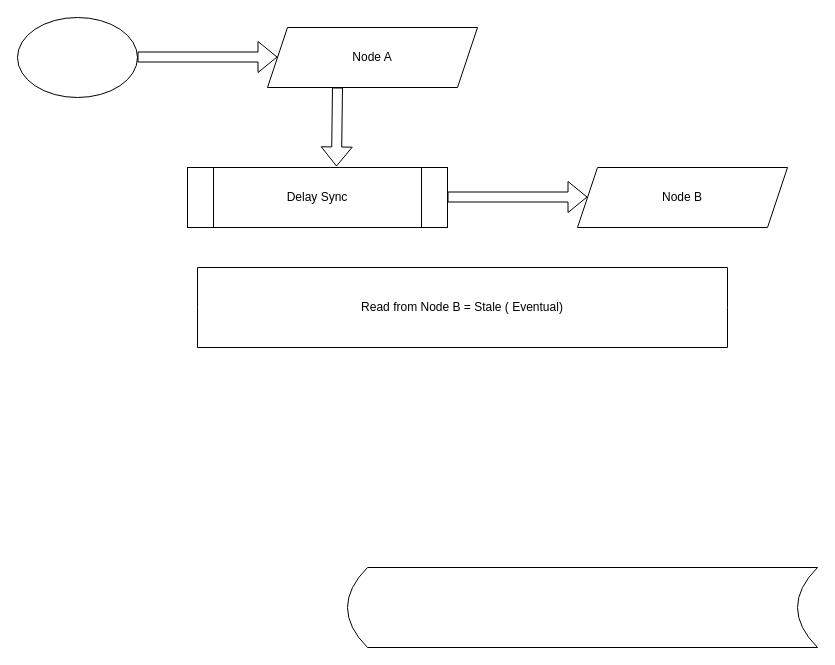
The diagram is 835 pixels wide and 665 high, and some of its shapes have lost their labels. The shapes that lost their labels are listed below. From the top down, each one's centre as x and y in pixels, then its label:
point (77, 57): Write
point (582, 607): crafted by Prakash Karuppusamy
